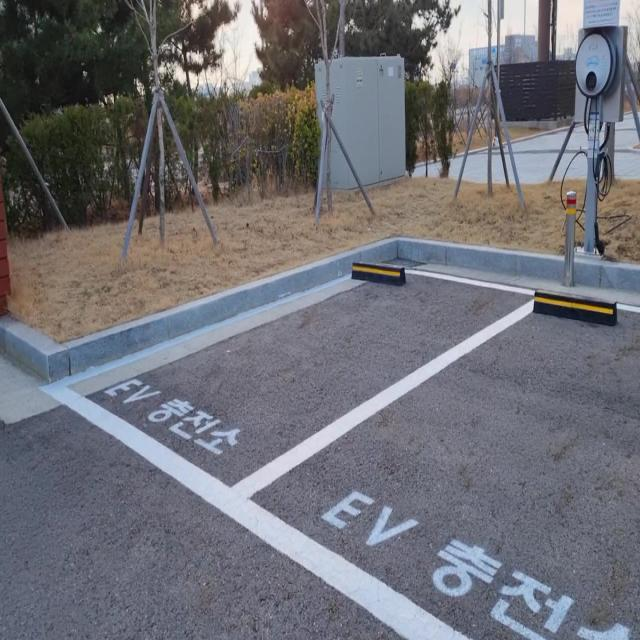empty: (38, 264, 534, 518)
